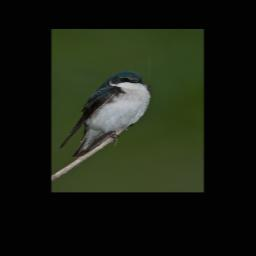Swallow: (59, 69, 154, 158)
